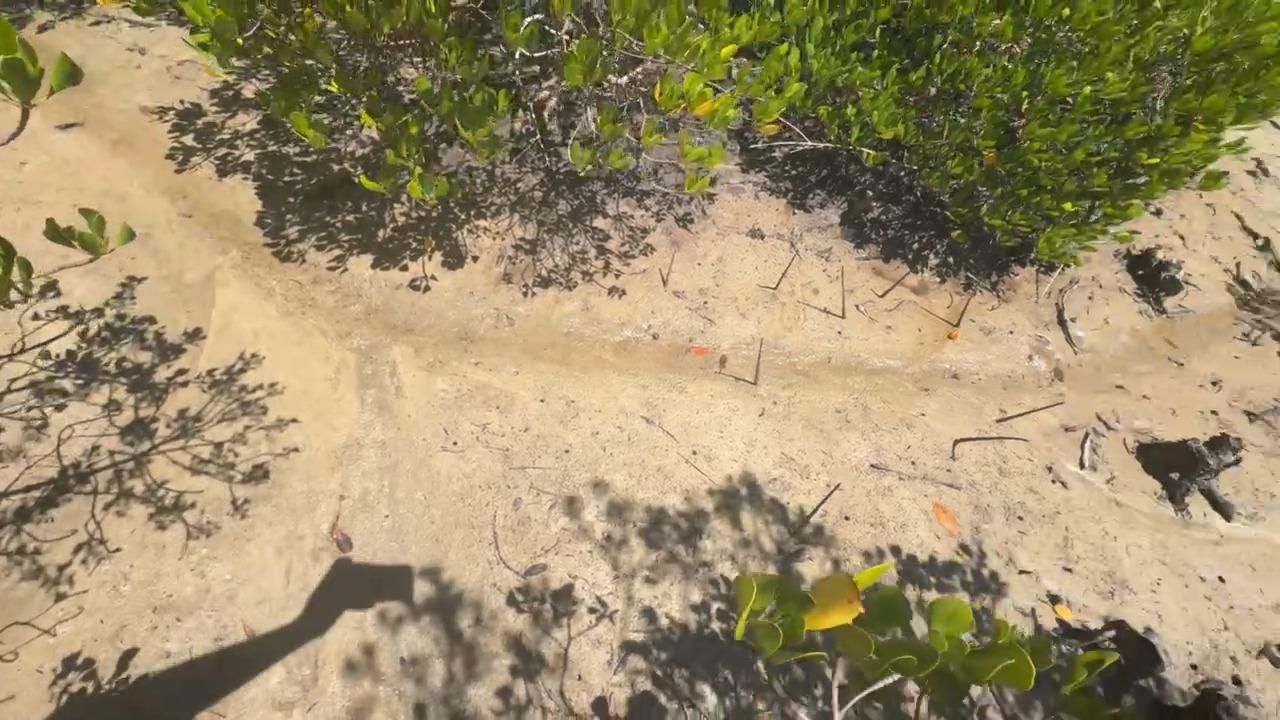Tree: (793, 482, 842, 535), (995, 401, 1065, 423), (1037, 264, 1065, 303), (774, 249, 800, 290), (879, 269, 912, 299), (954, 291, 976, 328), (953, 436, 1030, 445), (663, 248, 677, 287), (753, 337, 764, 385), (841, 265, 846, 319)
